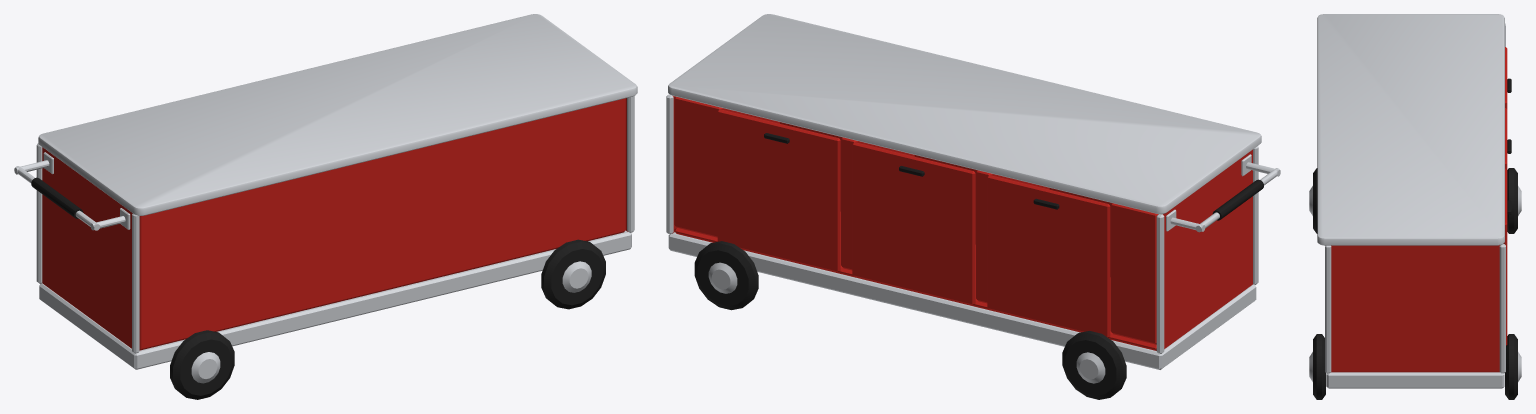
Rendered from barra_mediana.glb.
The picture shows the model from 3 angles, left to right: view 1: azimuth 30°, elevation 25°; view 2: azimuth 150°, elevation 25°; view 3: azimuth 270°, elevation 25°; orthographic projection. The views are drawn at different scales.
Visible parts, largest first — view 1: pieza_pintura, barra_mediana_estructura; view 2: barra_mediana_estructura, pieza_pintura, pieza_tapa_bahia_2, pieza_tapa_bahia_3, pieza_tapa_bahia_1; view 3: barra_mediana_estructura, pieza_pintura, pieza_tapa_bahia_3, pieza_tapa_bahia_1, pieza_tapa_bahia_2.
Part boxes in pixels (x1,y1,x2,y2): pieza_pintura: (42,98,628,350); barra_mediana_estructura: (14,14,637,399); barra_mediana_estructura: (666,14,1280,399); pieza_pintura: (672,96,1252,350); pieza_tapa_bahia_2: (852,142,975,305); pieza_tapa_bahia_3: (717,109,840,272); pieza_tapa_bahia_1: (987,175,1110,337); barra_mediana_estructura: (1309,14,1521,399); pieza_pintura: (1331,245,1499,372); pieza_tapa_bahia_3: (1503,168,1511,345); pieza_tapa_bahia_1: (1505,47,1511,108); pieza_tapa_bahia_2: (1505,108,1511,169).
Size of what is drawn, in the model's own units: 2.59 by 0.95 by 0.972.
